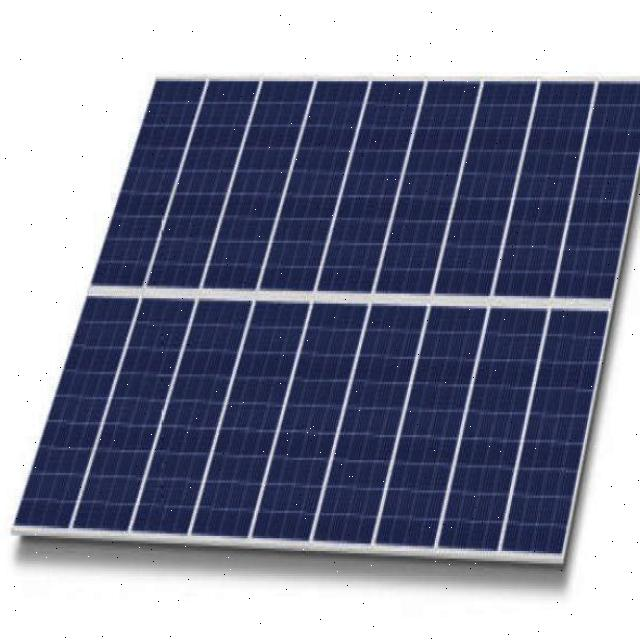Normal Solar Panel: (11, 73, 640, 560)
